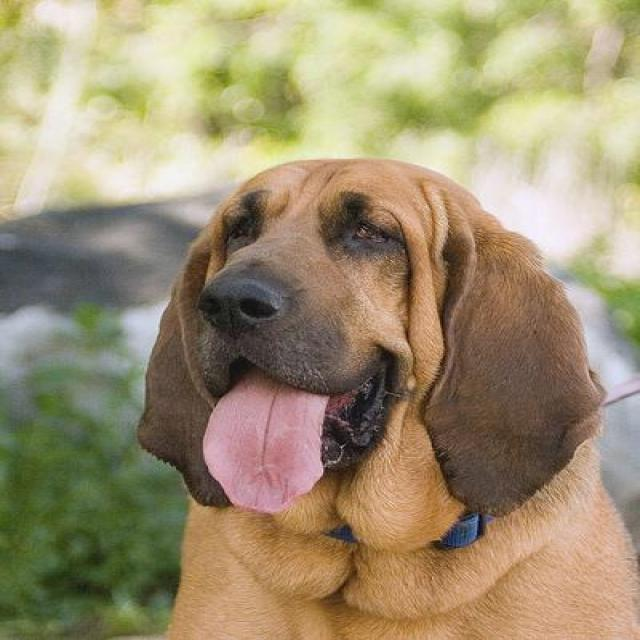bloodhound: (130, 156, 636, 634)
